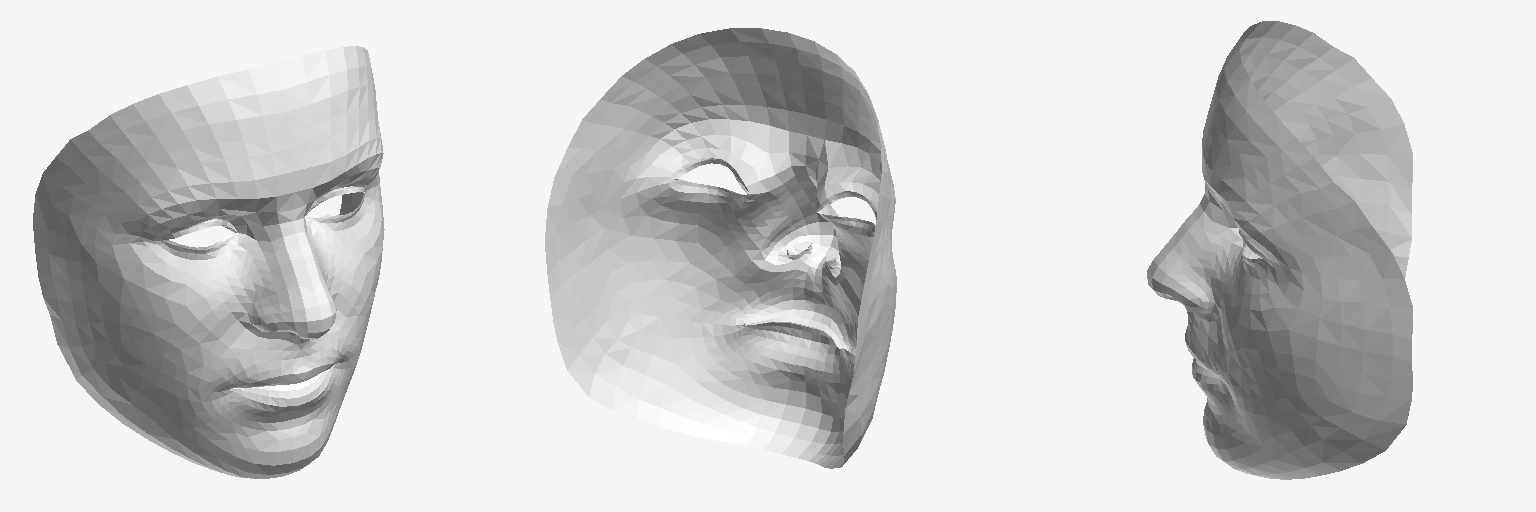
Rendered from cheekSquint_R.obj.
3 renders of one model, left to right at view 1: azimuth 30°, elevation 25°; view 2: azimuth 150°, elevation 25°; view 3: azimuth 270°, elevation 25°, orthographic.
Visible parts, largest first — view 1: default; view 2: default; view 3: default.
Part boxes in pixels (x1,y1,x2,y2): default: (33, 46, 384, 478); default: (545, 28, 896, 468); default: (1147, 21, 1412, 479).
Size of the model in its own units: 0.1447 by 0.182 by 0.1055.